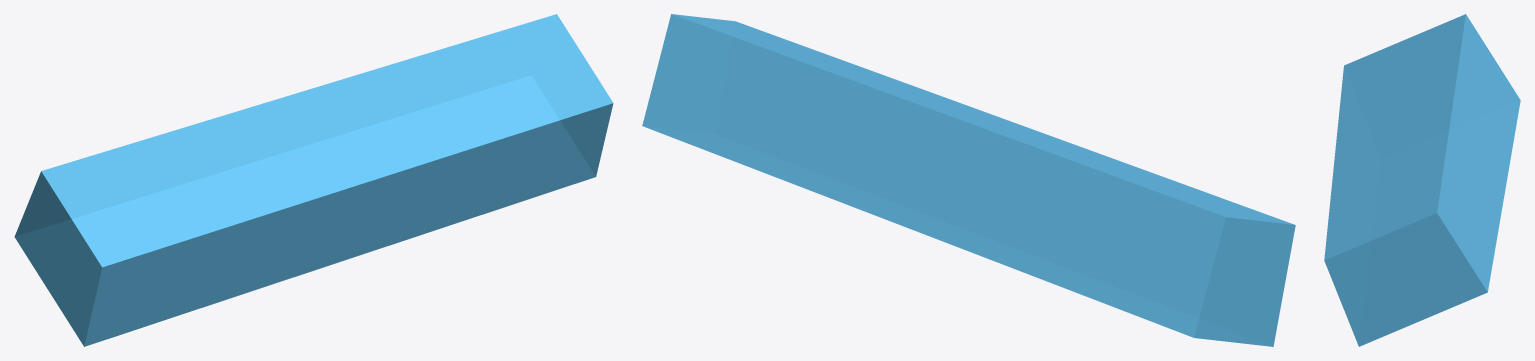
Rendered from Event_421556567_HErechit_23.fbx.
3 renders of one model, left to right at view 1: azimuth 30°, elevation 25°; view 2: azimuth 150°, elevation 25°; view 3: azimuth 270°, elevation 25°, orthographic. The views are drawn at different scales.
Parts seen in each view (by area): view 1: Model; view 2: Model; view 3: Model.
Part boxes in pixels (x1,y1,x2,y2): Model: (14,14,613,346); Model: (642,14,1295,346); Model: (1324,14,1520,346).
Bounding box in the file's own units: 0.8213 × 0.2981 × 0.2792.
